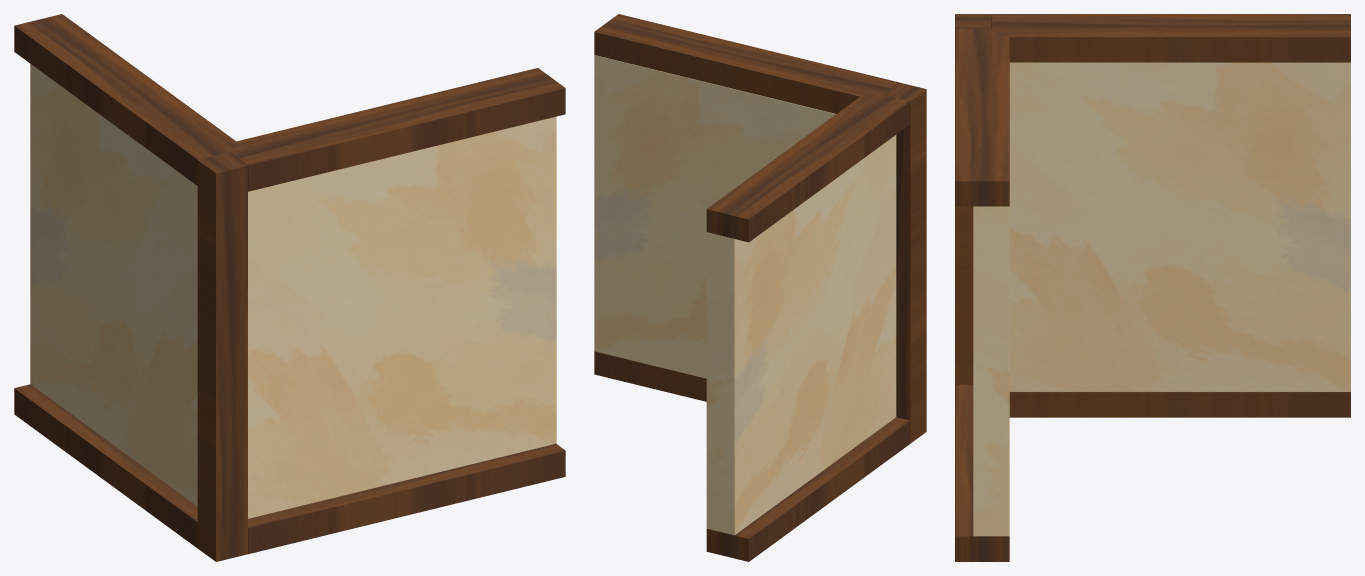
Rendered from CM_FacadeBay01_Corner90_Benchmark.fbx.
The picture shows the model from 3 angles, left to right: view 1: azimuth 30°, elevation 25°; view 2: azimuth 150°, elevation 25°; view 3: azimuth 270°, elevation 25°; orthographic projection. The views are drawn at different scales.
Parts seen in each view (by area): view 1: CM_FacadeBay01_Corner90_Benchmark_PlasterFront, CM_FacadeBay01_Corner90_Benchmark_PlasterSide, CM_FacadeBay01_Corner90_Benchmark_Post, CM_FacadeBay01_Corner90_Benchmark_RailFront3.13, CM_FacadeBay01_Corner90_Benchmark_RailSide3.13, CM_FacadeBay01_Corner90_Benchmark_RailFront0, CM_FacadeBay01_Corner90_Benchmark_RailSide0; view 2: CM_FacadeBay01_Corner90_Benchmark_PlasterSide, CM_FacadeBay01_Corner90_Benchmark_PlasterFront, CM_FacadeBay01_Corner90_Benchmark_RailFront3.13, CM_FacadeBay01_Corner90_Benchmark_RailSide3.13, CM_FacadeBay01_Corner90_Benchmark_Post, CM_FacadeBay01_Corner90_Benchmark_RailSide0, CM_FacadeBay01_Corner90_Benchmark_RailFront0; view 3: CM_FacadeBay01_Corner90_Benchmark_PlasterSide, CM_FacadeBay01_Corner90_Benchmark_RailSide3.13, CM_FacadeBay01_Corner90_Benchmark_PlasterFront, CM_FacadeBay01_Corner90_Benchmark_RailFront3.13, CM_FacadeBay01_Corner90_Benchmark_RailSide0, CM_FacadeBay01_Corner90_Benchmark_RailFront0, CM_FacadeBay01_Corner90_Benchmark_Post.
Part boxes in pixels (<box>): CM_FacadeBay01_Corner90_Benchmark_PlasterFront: <box>248,116,556,518</box>; CM_FacadeBay01_Corner90_Benchmark_PlasterSide: <box>30,64,197,506</box>; CM_FacadeBay01_Corner90_Benchmark_Post: <box>197,152,247,561</box>; CM_FacadeBay01_Corner90_Benchmark_RailFront3.13: <box>230,68,565,191</box>; CM_FacadeBay01_Corner90_Benchmark_RailSide3.13: <box>14,14,236,185</box>; CM_FacadeBay01_Corner90_Benchmark_RailFront0: <box>248,444,565,554</box>; CM_FacadeBay01_Corner90_Benchmark_RailSide0: <box>14,384,197,548</box>; CM_FacadeBay01_Corner90_Benchmark_PlasterSide: <box>706,135,896,535</box>; CM_FacadeBay01_Corner90_Benchmark_PlasterFront: <box>594,55,835,378</box>; CM_FacadeBay01_Corner90_Benchmark_RailFront3.13: <box>594,14,898,113</box>; CM_FacadeBay01_Corner90_Benchmark_RailSide3.13: <box>706,94,910,242</box>; CM_FacadeBay01_Corner90_Benchmark_Post: <box>883,82,926,442</box>; CM_FacadeBay01_Corner90_Benchmark_RailSide0: <box>706,417,910,561</box>; CM_FacadeBay01_Corner90_Benchmark_RailFront0: <box>594,351,706,401</box>; CM_FacadeBay01_Corner90_Benchmark_PlasterSide: <box>1009,62,1350,391</box>; CM_FacadeBay01_Corner90_Benchmark_RailSide3.13: <box>991,14,1350,62</box>; CM_FacadeBay01_Corner90_Benchmark_PlasterFront: <box>973,206,1009,536</box>; CM_FacadeBay01_Corner90_Benchmark_RailFront3.13: <box>955,29,1009,206</box>; CM_FacadeBay01_Corner90_Benchmark_RailSide0: <box>1009,392,1350,417</box>; CM_FacadeBay01_Corner90_Benchmark_RailFront0: <box>955,384,1009,561</box>; CM_FacadeBay01_Corner90_Benchmark_Post: <box>955,14,991,384</box>.
Bounding box in the file's own units: 3.05 × 3.24 × 3.05.
